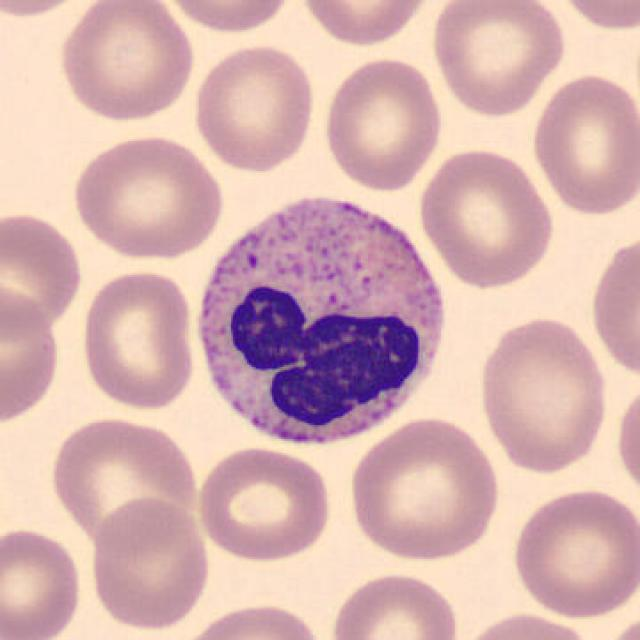Neutrophil: (185, 180, 455, 460)
RBC: (343, 412, 505, 562), (474, 312, 612, 476), (44, 413, 202, 550), (68, 130, 228, 261), (414, 144, 556, 291), (54, 0, 198, 125), (77, 266, 199, 413), (507, 484, 638, 620), (318, 53, 446, 192), (87, 494, 213, 633), (188, 40, 318, 174), (194, 443, 334, 564), (427, 0, 569, 118), (528, 68, 636, 218), (0, 206, 85, 338), (0, 523, 85, 640), (326, 569, 462, 640), (0, 284, 64, 428), (586, 227, 640, 384), (295, 0, 437, 49), (176, 599, 329, 640), (158, 0, 300, 35), (453, 610, 599, 640), (611, 377, 640, 504), (549, 0, 639, 33), (0, 0, 98, 19), (603, 608, 638, 640)
